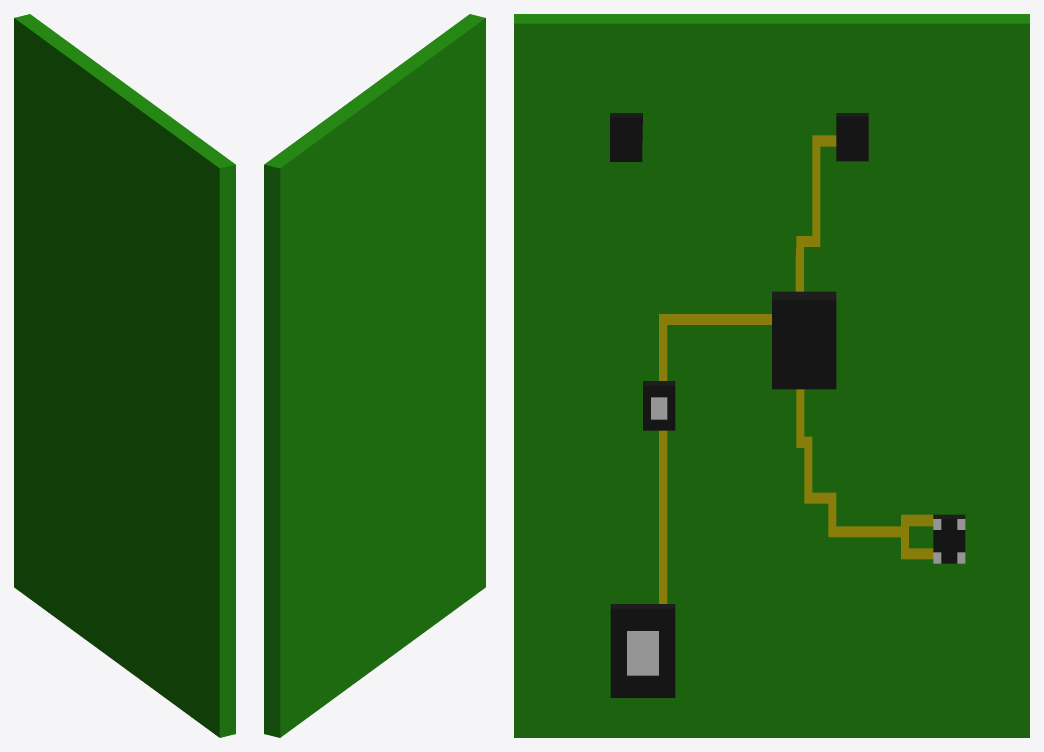
The model's file is circuitboard.fbx.
3 views of the same model, side by side, from view 1: azimuth 30°, elevation 25°; view 2: azimuth 150°, elevation 25°; view 3: azimuth 270°, elevation 25° (orthographic). The views are drawn at different scales.
Parts seen in each view (by area): view 1: Cube; view 2: Cube; view 3: Cube.
Boxes of the visible parts, x1,y1,x2,y2 form: Cube: [14, 14, 235, 737]; Cube: [264, 14, 485, 737]; Cube: [514, 14, 1029, 737].
Size of the model in its own units: 49.62 by 900 by 589.
